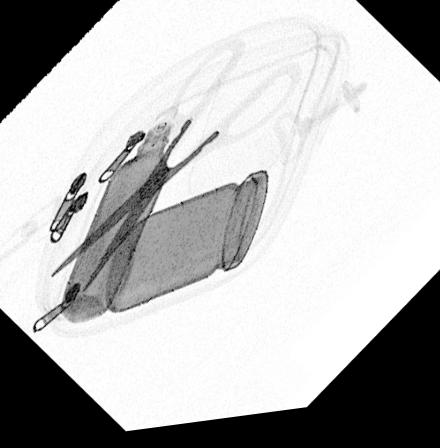Scissors: (44, 42, 302, 298)
